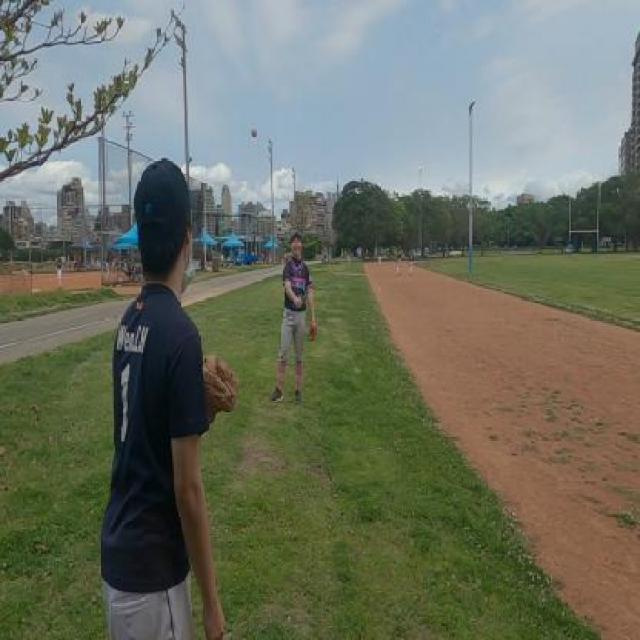baseball: (252, 128, 258, 138)
